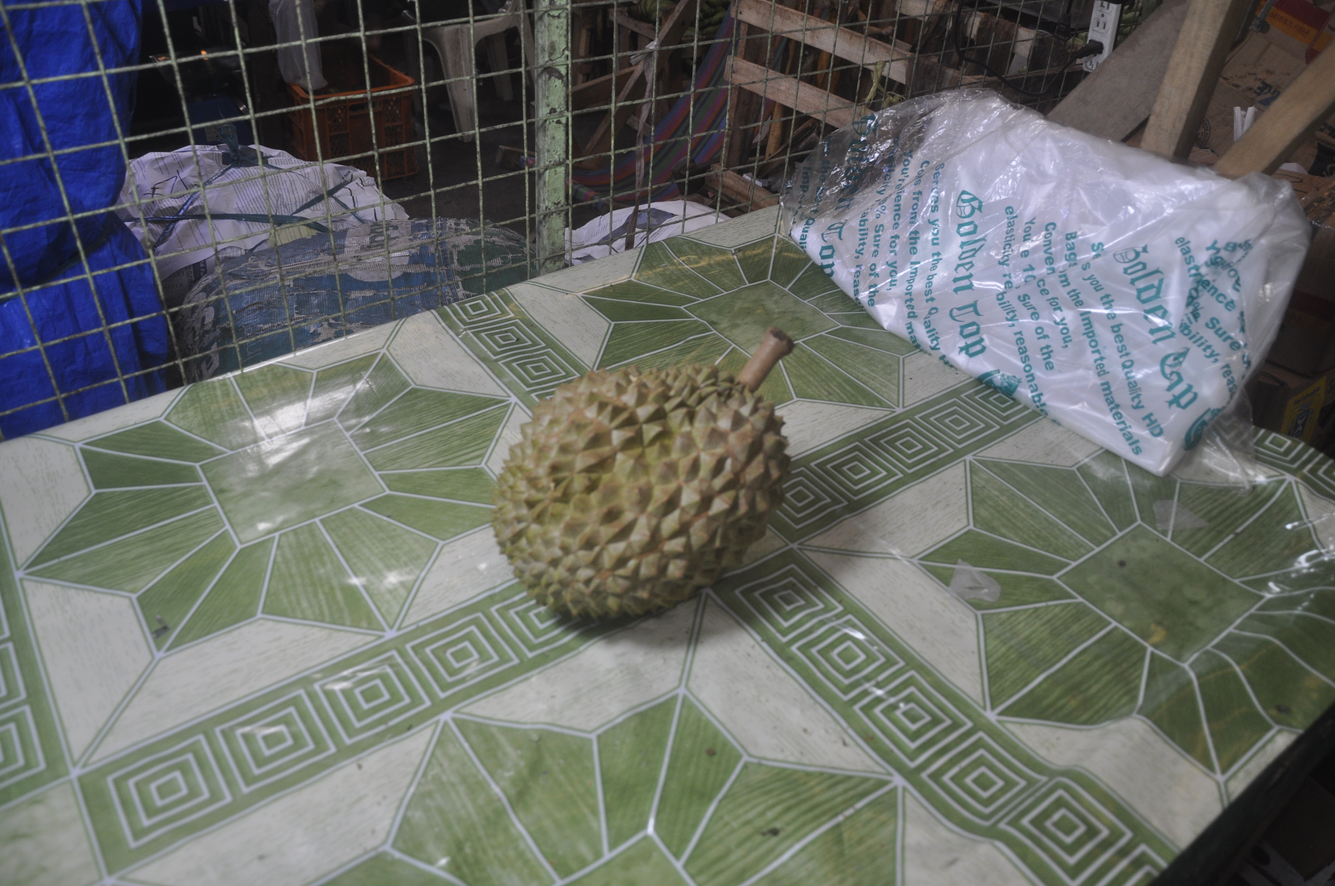mature: (492, 328, 794, 617)
